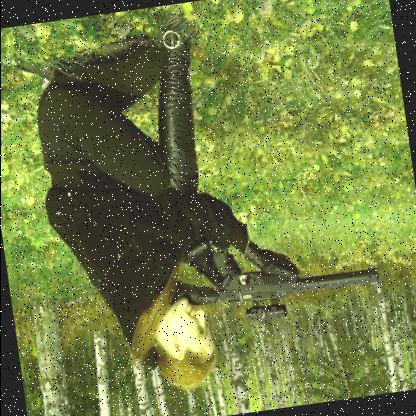rifle: (172, 222, 384, 334)
